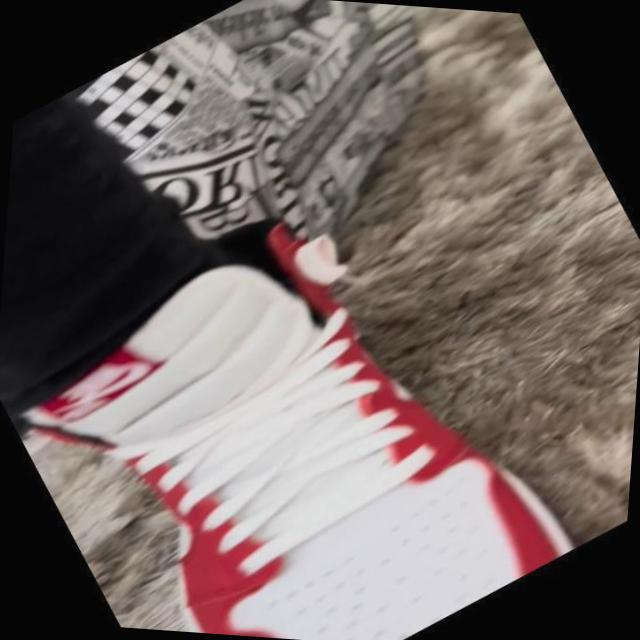nike_fake_jordan: (0, 139, 590, 640)
